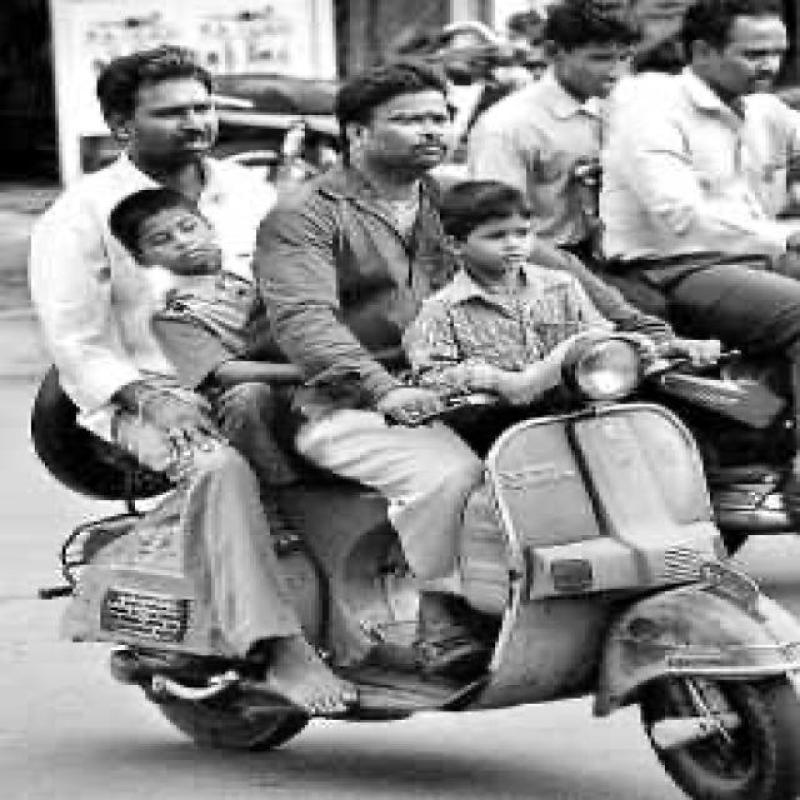nohelmet: (77, 36, 231, 174), (333, 70, 466, 180), (446, 186, 560, 284)
